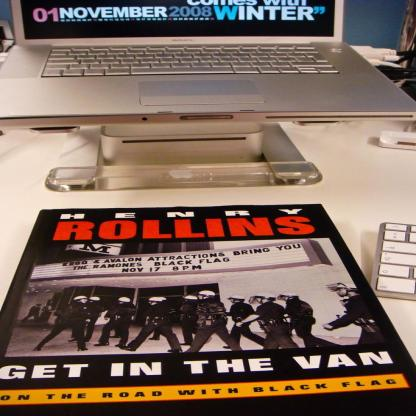board: (0, 2, 408, 122)
